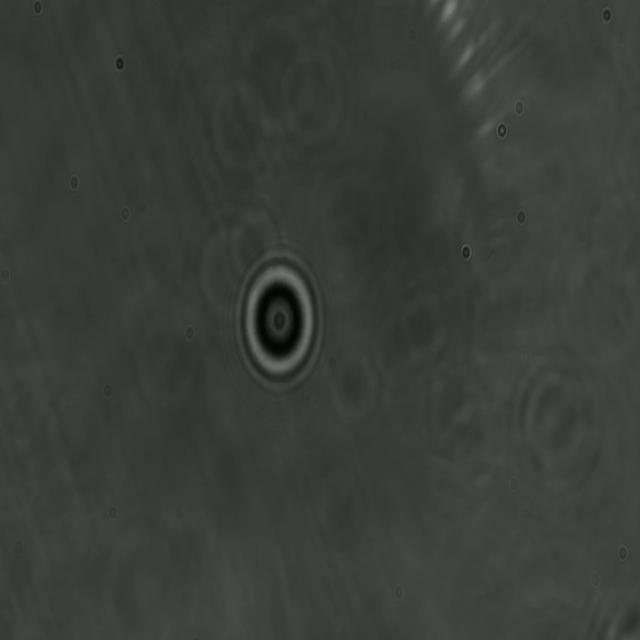LCELL: (232, 246, 330, 398)
